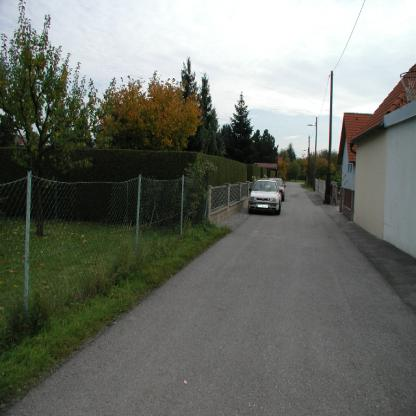car: (249, 180, 285, 216)
